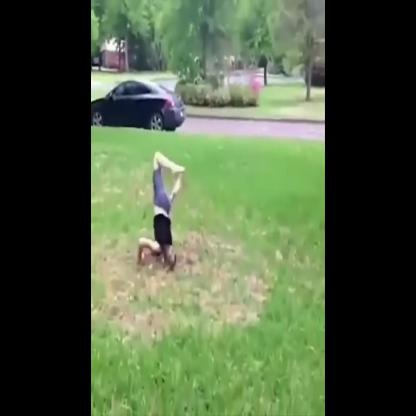Fall_Down: (134, 147, 188, 274)
